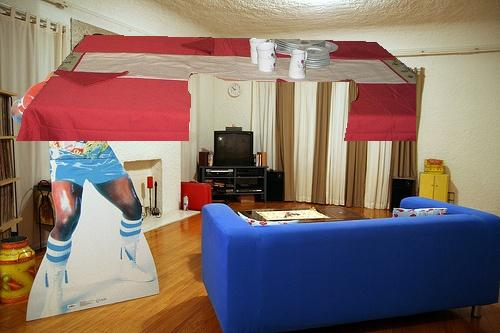tampered: (17, 36, 416, 141)
